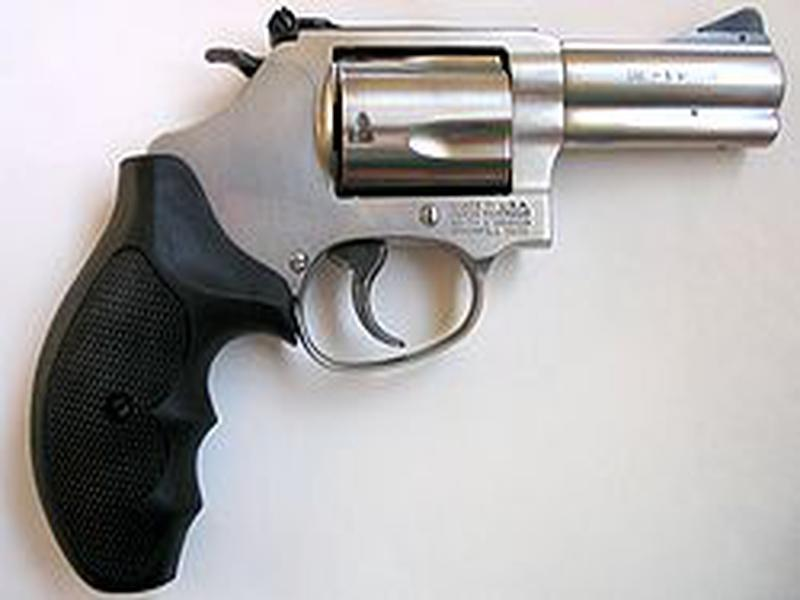Revolver: (32, 4, 797, 588)
